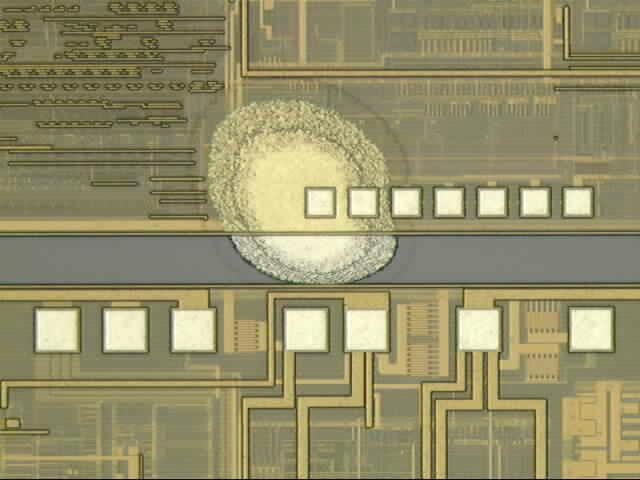BLOCK ETCH: (185, 74, 415, 309)
